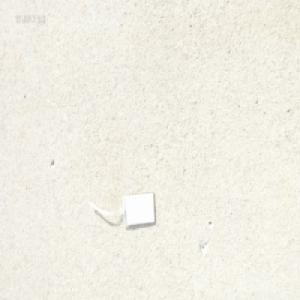LuggageTag: (88, 189, 159, 230)
